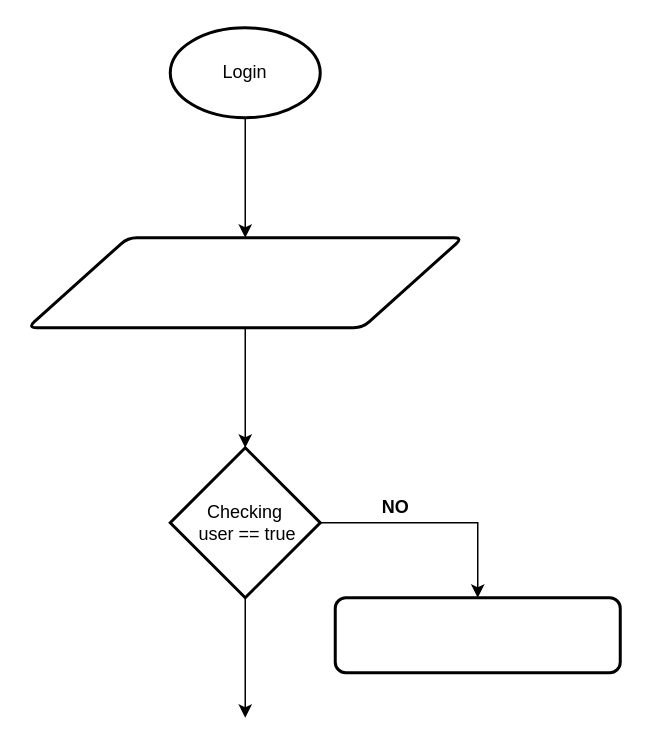
The diagram is 647 pixels wide and 756 high, and some of its shapes have lost their labels. The box of each missing label's shape, as (x1, y1, x2, y2) in pixels:
Get Email Id and Password from user: (26, 236, 464, 328)
Show message(Email id or Password Does not Match): (333, 596, 621, 674)
